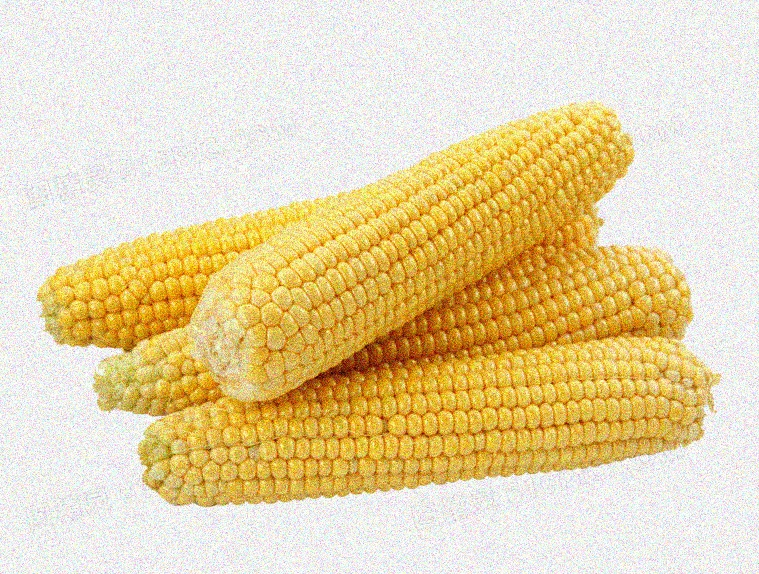corn: (214, 106, 624, 387), (32, 147, 607, 347), (96, 241, 694, 414), (159, 334, 714, 508)
